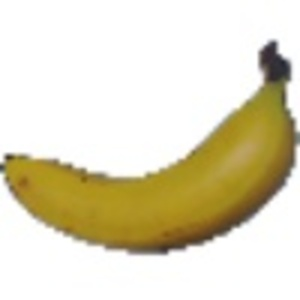banana: (3, 36, 295, 256)
